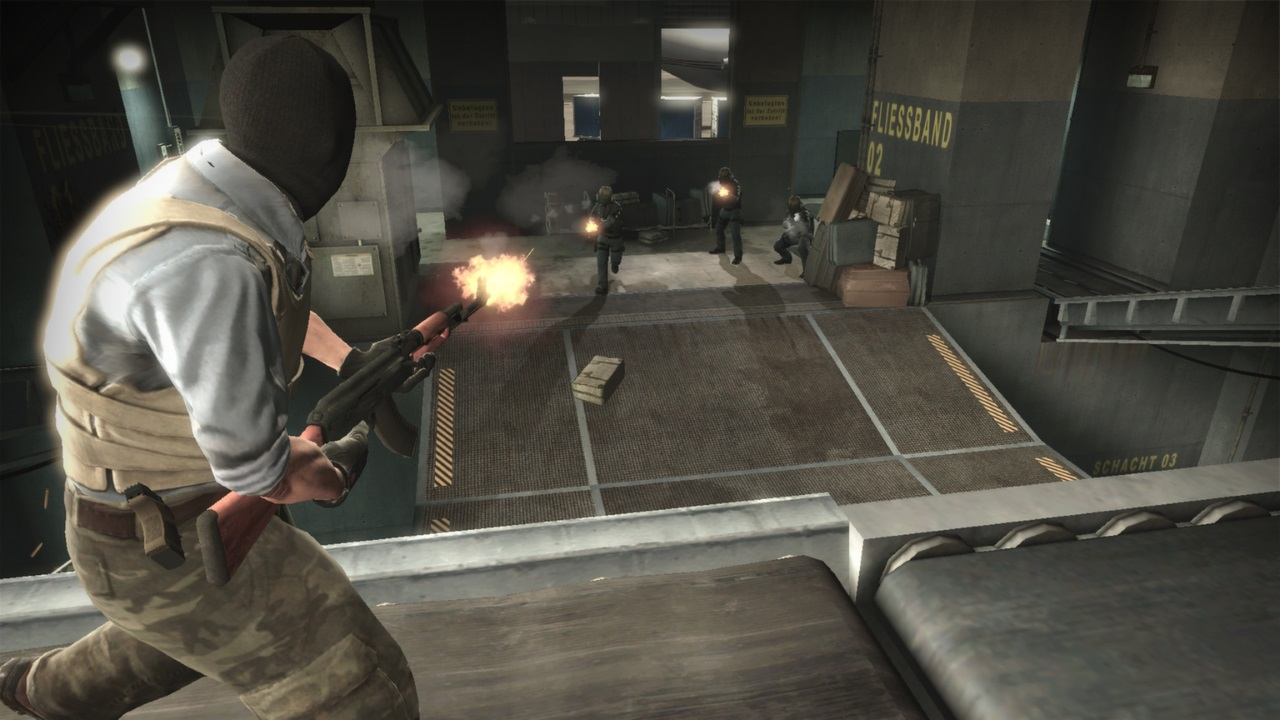c: (584, 181, 632, 299), (772, 192, 817, 277), (709, 165, 743, 265)
ch: (593, 180, 617, 211), (784, 192, 807, 218), (716, 166, 733, 187)
t: (1, 33, 416, 717)
th: (202, 29, 357, 228)
